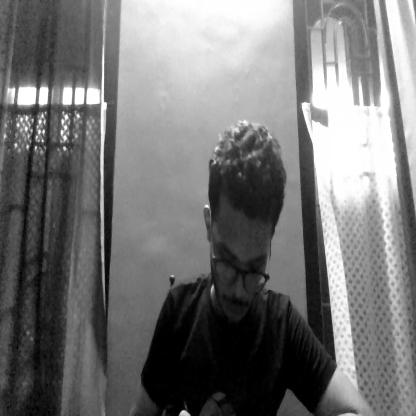Normal: (207, 120, 280, 318)
